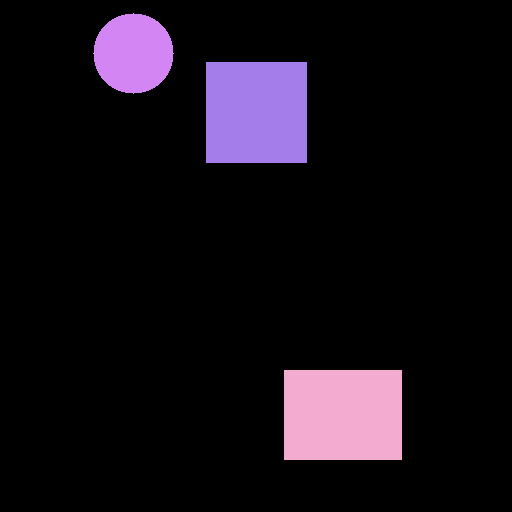circle: (93, 13, 173, 93)
rectangle: (284, 370, 401, 459)
square: (206, 62, 306, 162)
